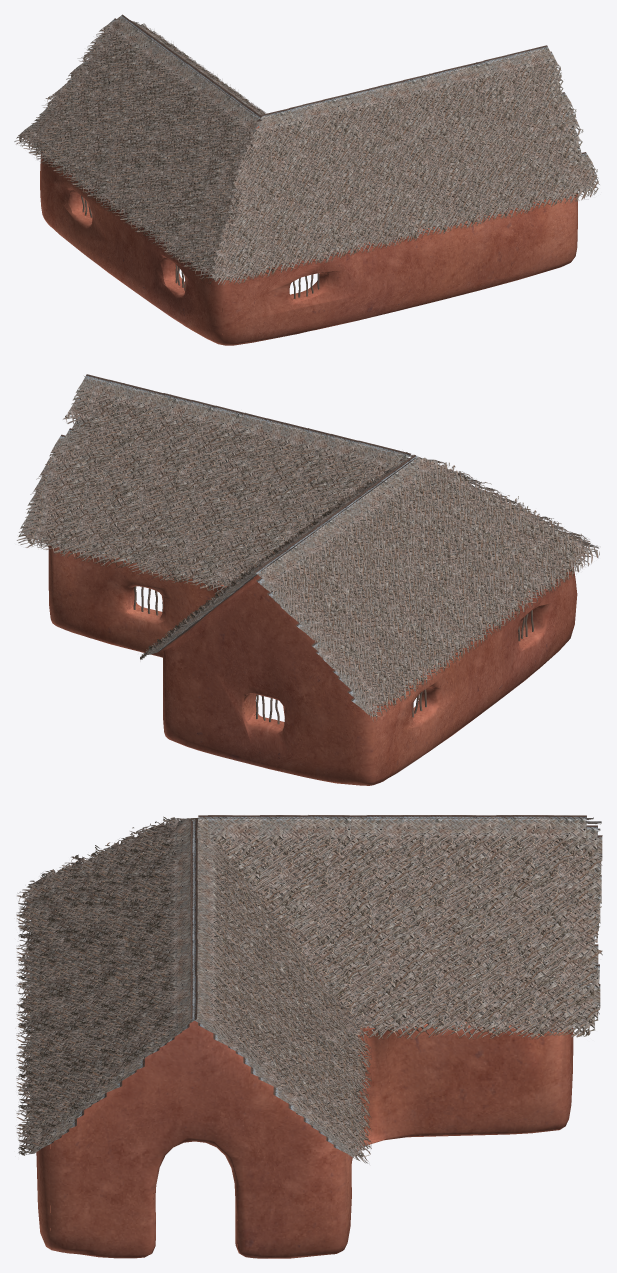
File: thatched_hut_stealth86_50k.glb
The picture shows the model from 3 angles, top to bottom: view 1: azimuth 30°, elevation 25°; view 2: azimuth 150°, elevation 25°; view 3: azimuth 270°, elevation 25°; orthographic projection. The views are drawn at different scales.
Parts seen in each view (by area): view 1: bool.001, bool, bool.003, bool.002; view 2: bool, bool.004, bool.003, bool.002, bool.001; view 3: bool.002, bool, bool.001, bool.004, bool.003.
Boxes of the visible parts, x1,y1,x2,y2 form: bool.001: [211, 45, 599, 285]; bool: [40, 126, 577, 345]; bool.003: [14, 14, 261, 283]; bool.002: [121, 17, 265, 121]; bool: [48, 544, 577, 785]; bool.004: [17, 374, 410, 593]; bool.003: [254, 454, 599, 721]; bool.002: [140, 458, 415, 659]; bool.001: [84, 376, 598, 548]; bool.002: [198, 815, 602, 1039]; bool: [36, 979, 573, 1258]; bool.001: [16, 817, 197, 1155]; bool.004: [190, 820, 371, 1163]; bool.003: [41, 816, 601, 877].
Size of the model in its own units: 6.4 by 2.74 by 5.68.
3 materials, 2 textured.
